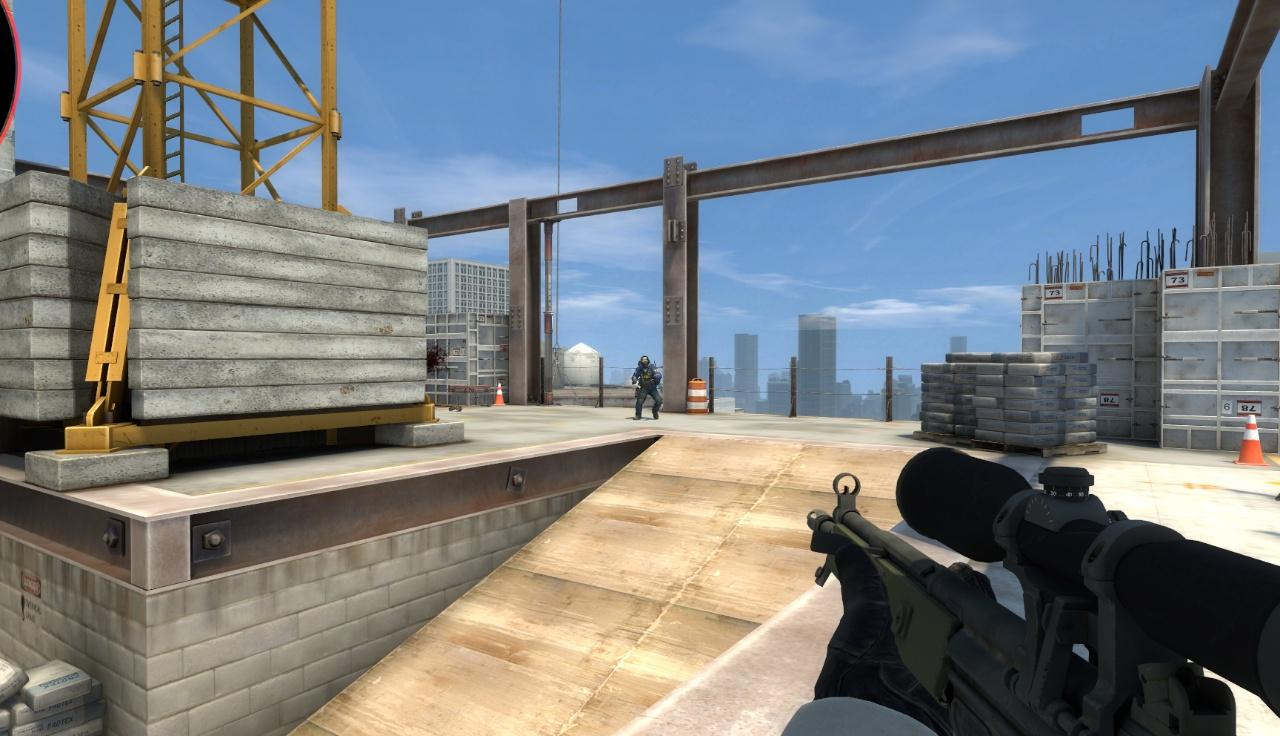ct: (632, 356, 662, 420)
cthead: (640, 356, 650, 368)
sniper: (808, 453, 1278, 735)
